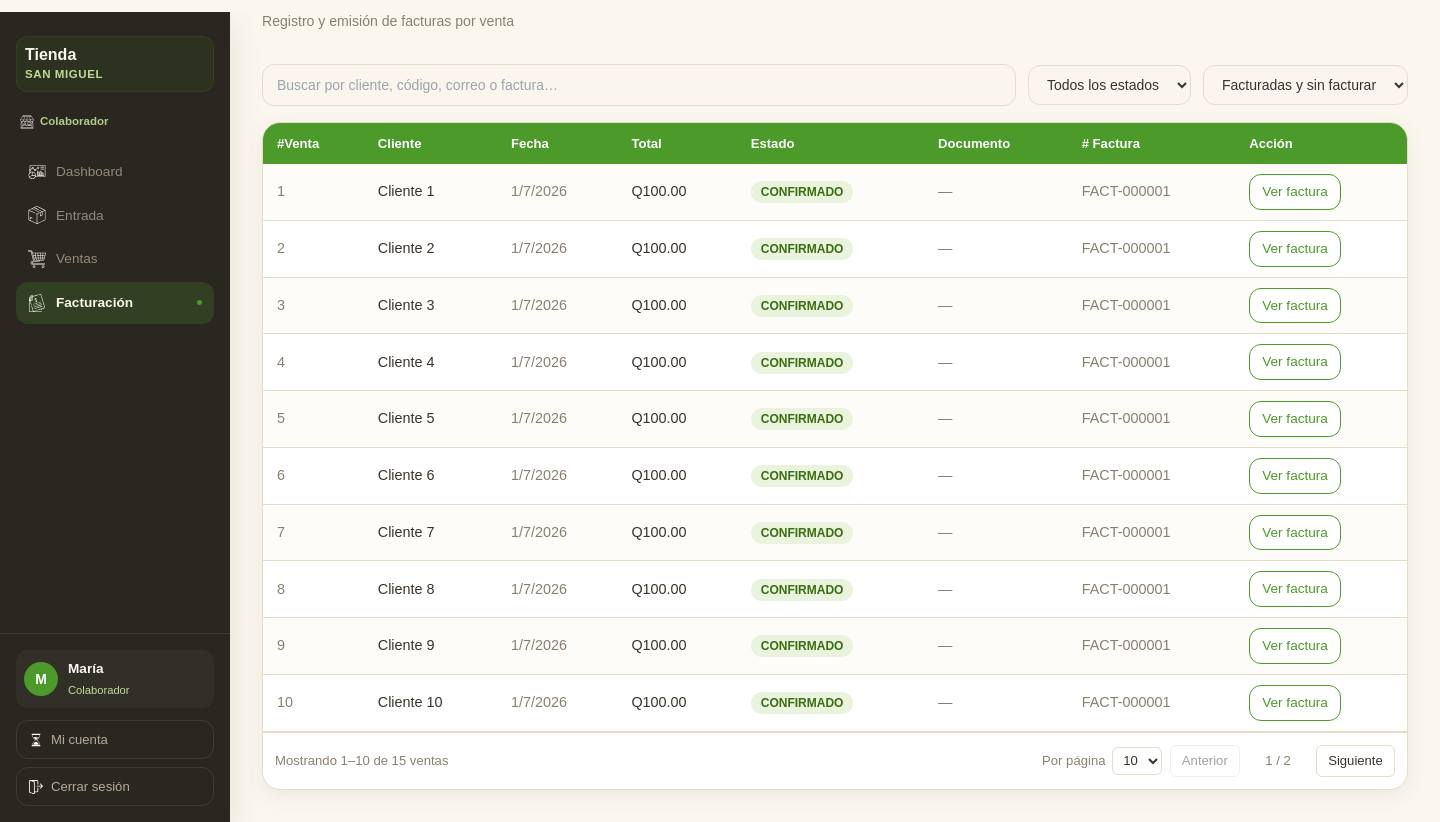
Test: FacturacionPage › paginates the results and updates the page counter
(page scrolled)
Expected: the text "Cliente 1" is shown, 364,164 -> 497,220
Expected: the text "Cliente 10" is shown, 364,674 -> 497,731
Click the button with aria-label "Página siguiente" at {"x": 1356, "y": 761}, box 1316,744 -> 1395,777
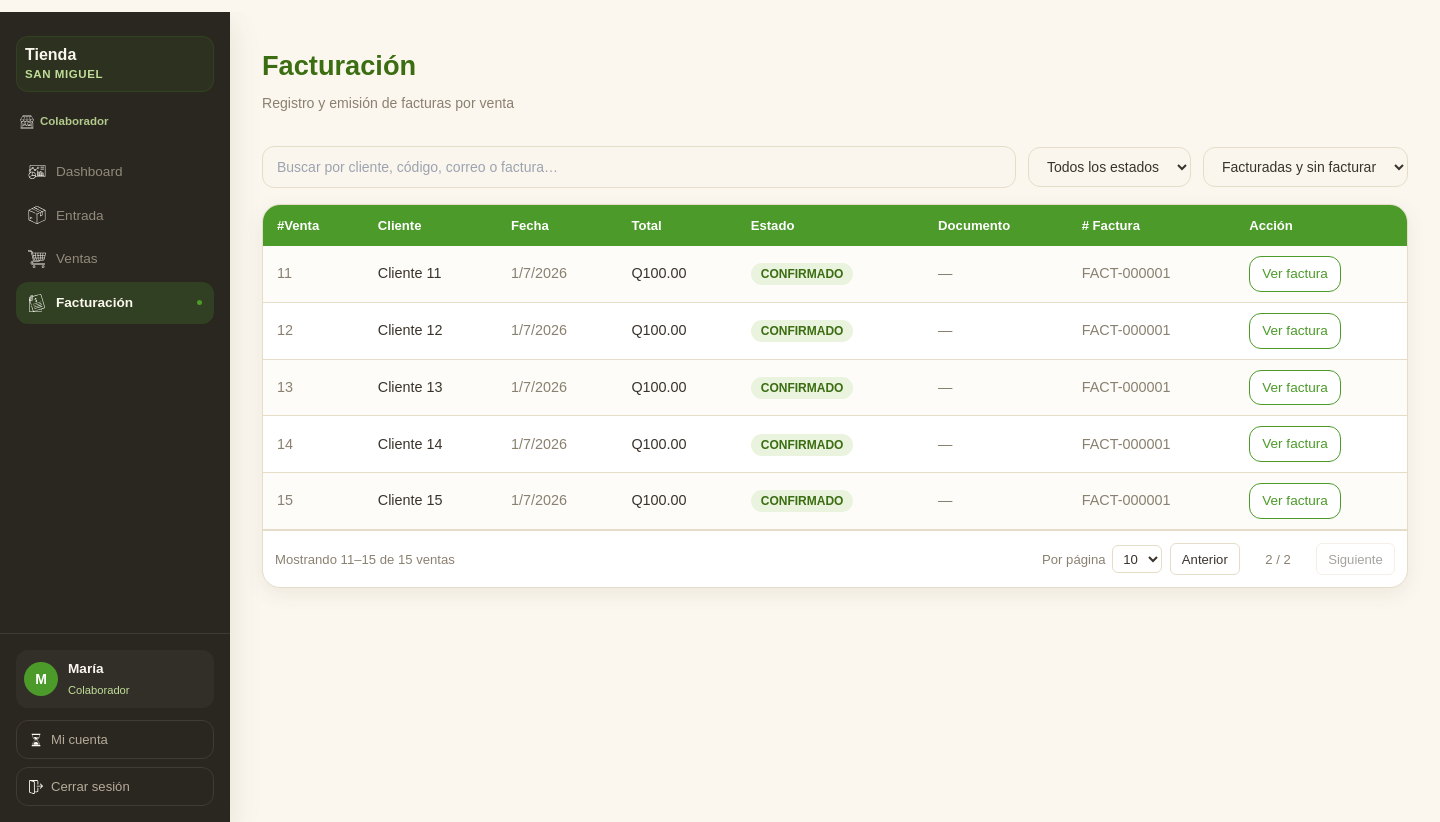
Expected: the text "Cliente 11" is shown, 364,246 -> 497,302
Expected: the text "2 / 2" is shown, 1265,552 -> 1291,567
Expected: the text "Cliente 10" is gone
Select "25" in the dropdown named "Resultados por página" at {"x": 1137, "y": 559}, box 1112,545 -> 1162,573
(page scrolled)
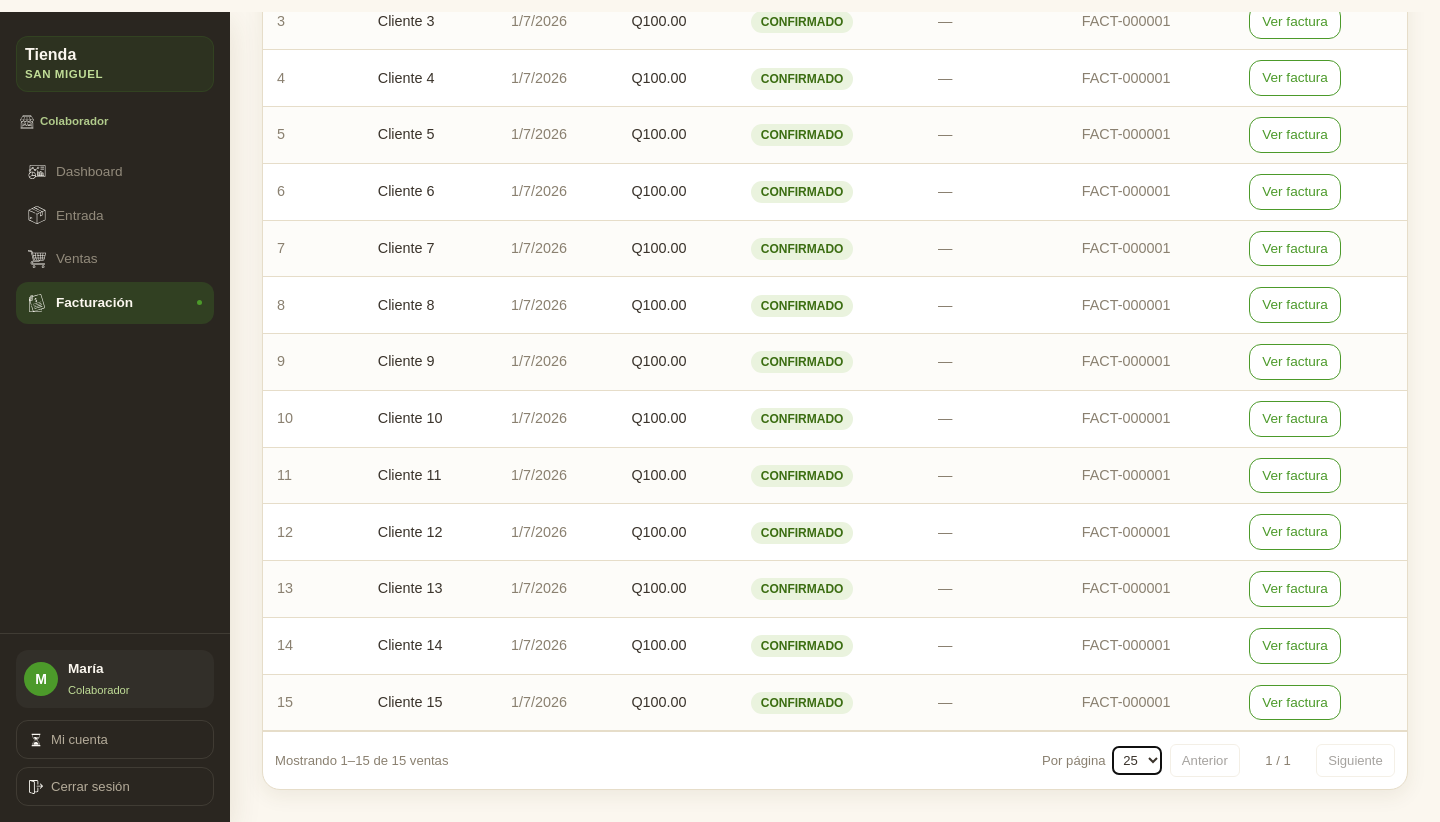
Expected: the text "Cliente 15" is shown, 364,674 -> 497,731
Expected: the text "1 / 1" is shown, 1265,753 -> 1291,768
